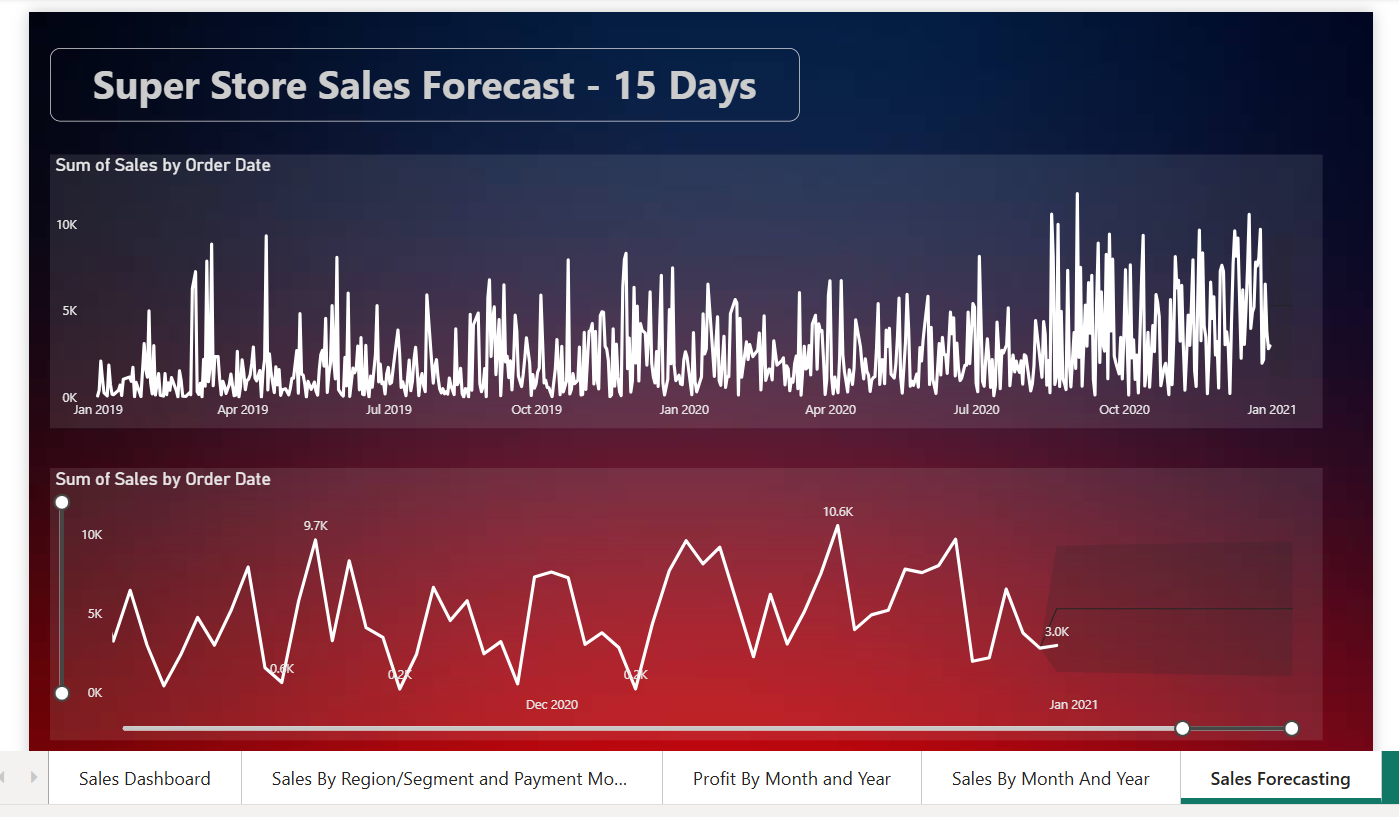

What the dashboard file says about the page in this screenshot:
{"tool":"powerbi","page":{"name":"Sales Forecasting","canvas":[1280,720],"ordinal":4},"visuals":[{"type":"lineChart","fields":{"Y":["Sum(SuperStore_Sales_Dataset.Sales)"],"Category":["SuperStore_Sales_Dataset.Order Date"]},"box":[20.7,135.2,1212,260.9],"z":0},{"type":"lineChart","fields":{"Y":["Sum(SuperStore_Sales_Dataset.Sales)"],"Category":["SuperStore_Sales_Dataset.Order Date"]},"box":[20.7,434.2,1212,259.3],"z":1000},{"type":"textbox","box":[20.7,35,714.2,70],"z":2000}]}

Visuals, with their boxes on the page's 1280x720 design canvas (x1, y1, x2, y2). These are canvas units, not pixel positions in the 1399x817 screenshot, which may show the page scaled, cropped or inside an application window:
lineChart - Sum(SuperStore_Sales_Dataset.Sales) x SuperStore_Sales_Dataset.Order Date: Rect(21, 135, 1233, 396)
lineChart - Sum(SuperStore_Sales_Dataset.Sales) x SuperStore_Sales_Dataset.Order Date: Rect(21, 434, 1233, 694)
textbox: Rect(21, 35, 735, 105)
